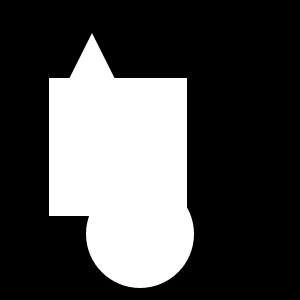circle: (49, 78, 187, 216)
rectangle: (86, 180, 194, 288)
triangle: (65, 33, 119, 87)
